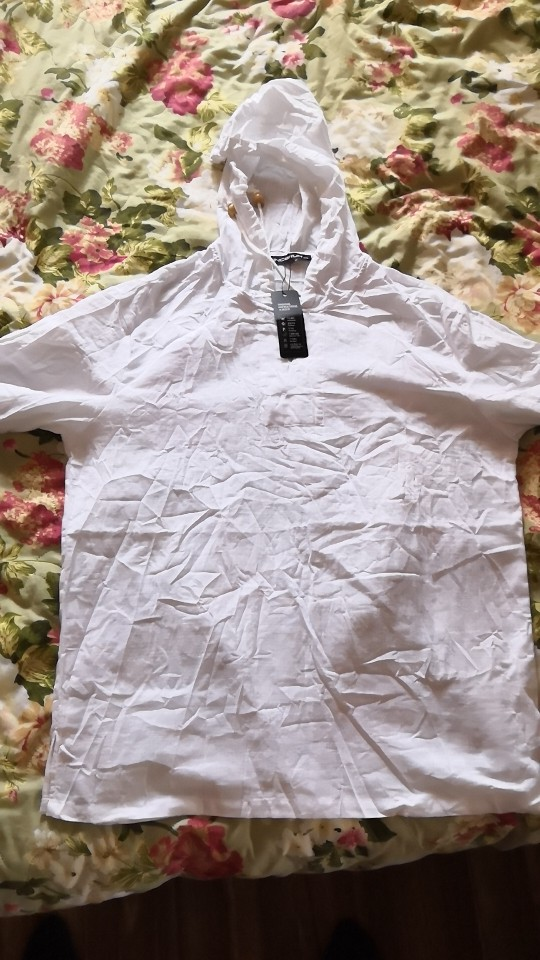shirts: (5, 79, 540, 818)
